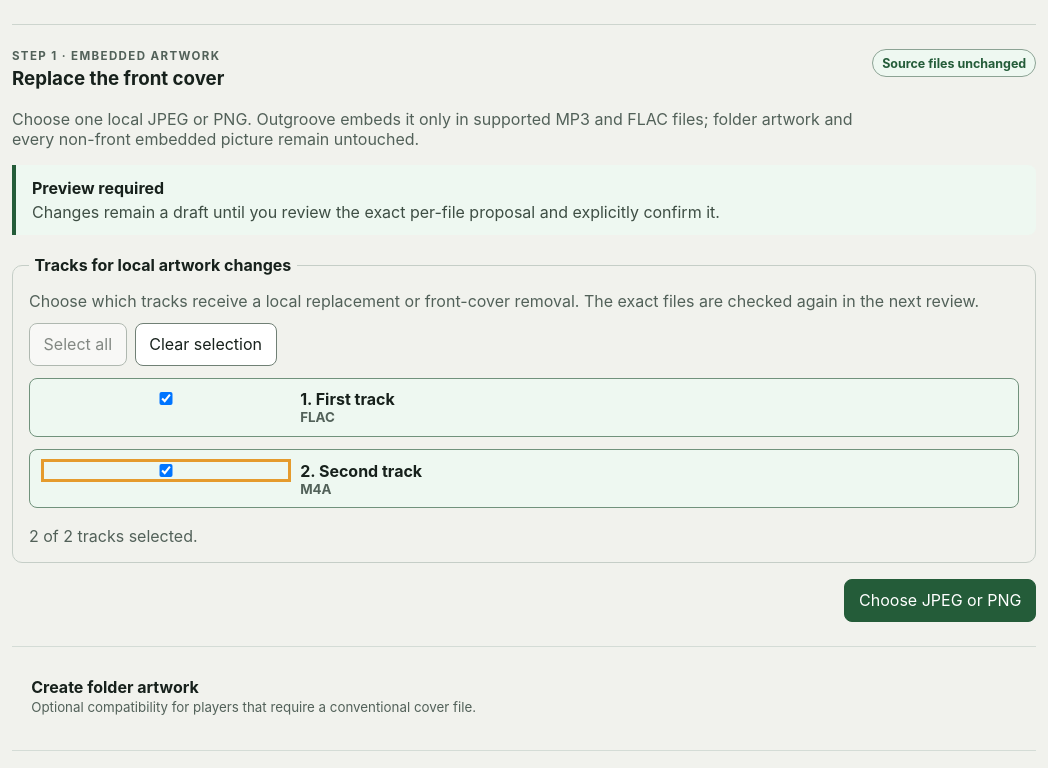
Test: AlbumArtworkEditor › selects exact tracks by keyboard before preparing a local change
The image size is (1048, 768).
Type keys " "
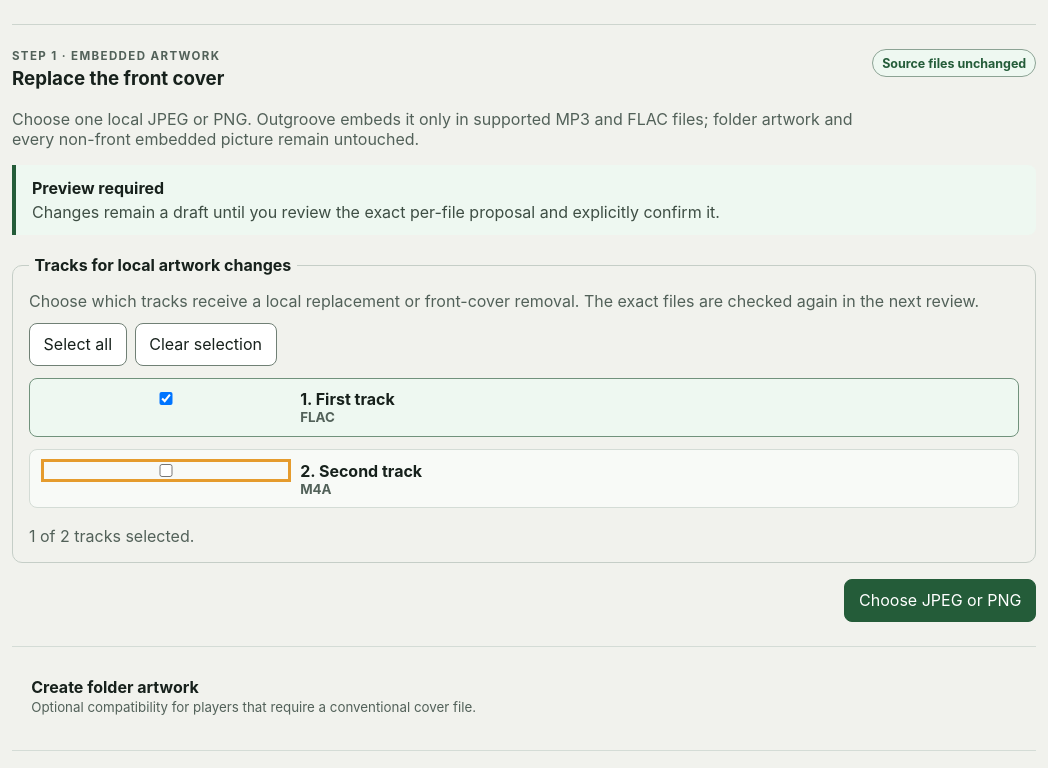
expect the checkbox labelled "2. Second track M4A" is not checked: met, box [46,464,286,477]
expect the text "1 of 2 tracks selected." is shown: met, box [29,526,194,546]
Click the button "Choose JPEG or PNG": (940, 600) [844,579,1036,622]
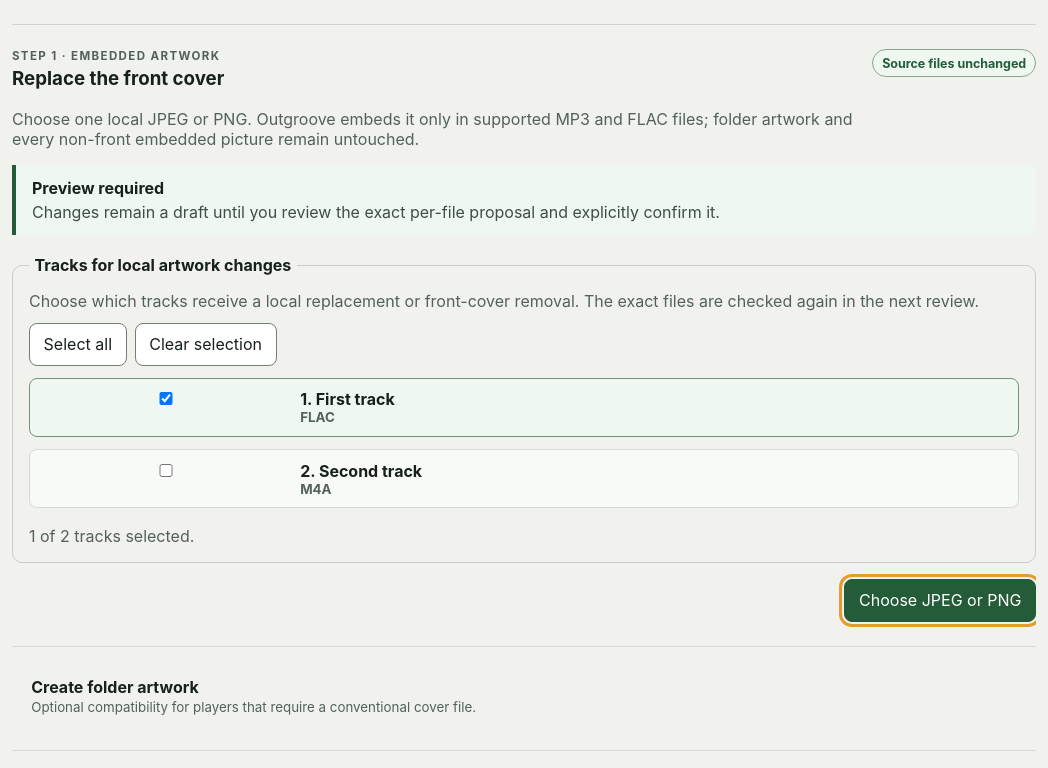
Click the button "Clear selection": (206, 344) [135,323,277,366]
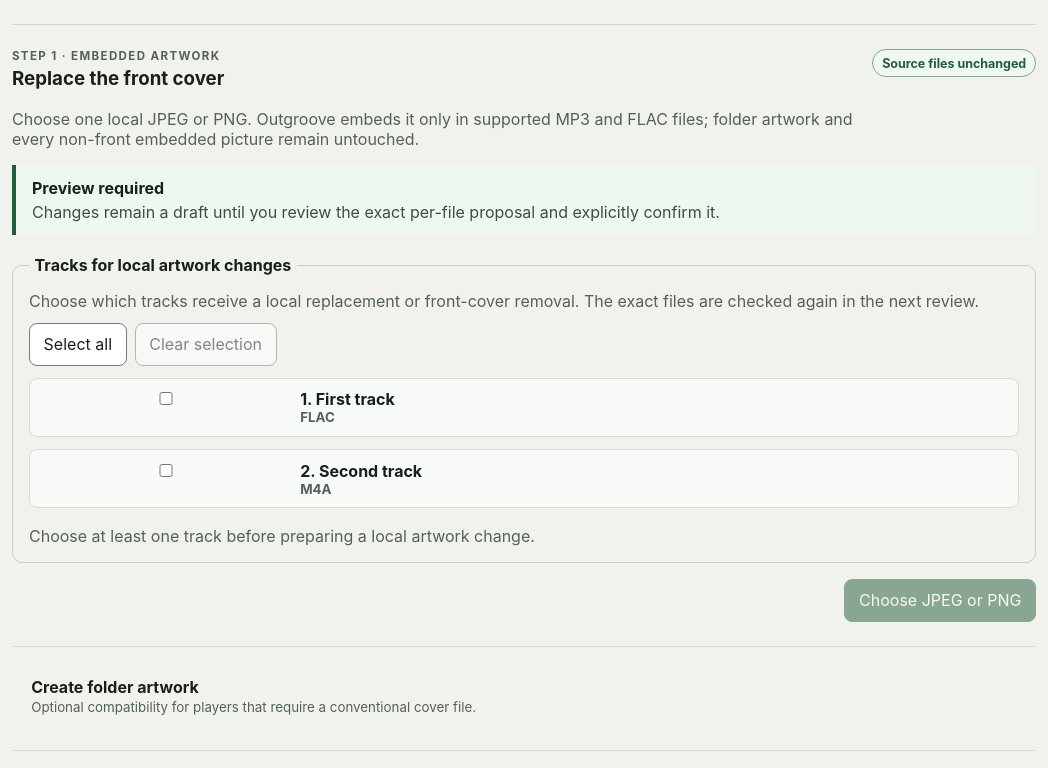
expect the text "Choose at least one track before preparing a local artwork change." is shown: met, box [29,526,535,546]
expect the button "Choose JPEG or PNG" is disabled: met, box [844,579,1036,622]
